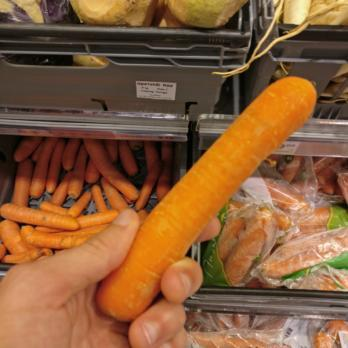Carrot: (91, 72, 318, 318), (9, 137, 83, 248), (84, 142, 170, 201)
